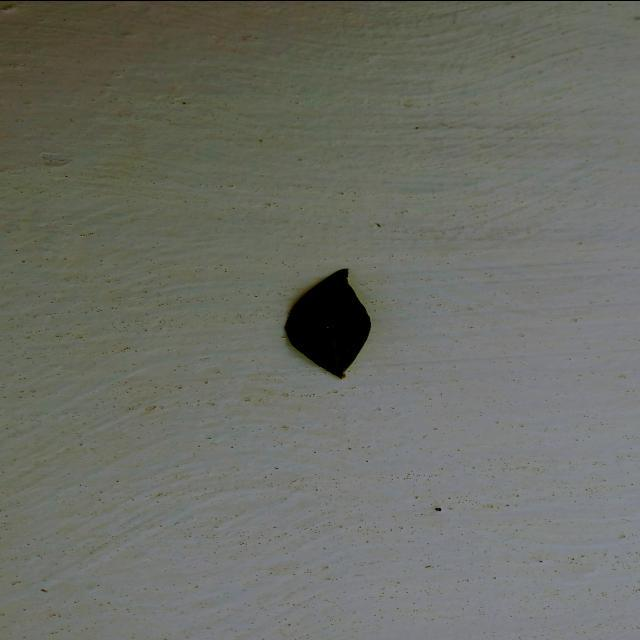leaf: (283, 267, 371, 379)
